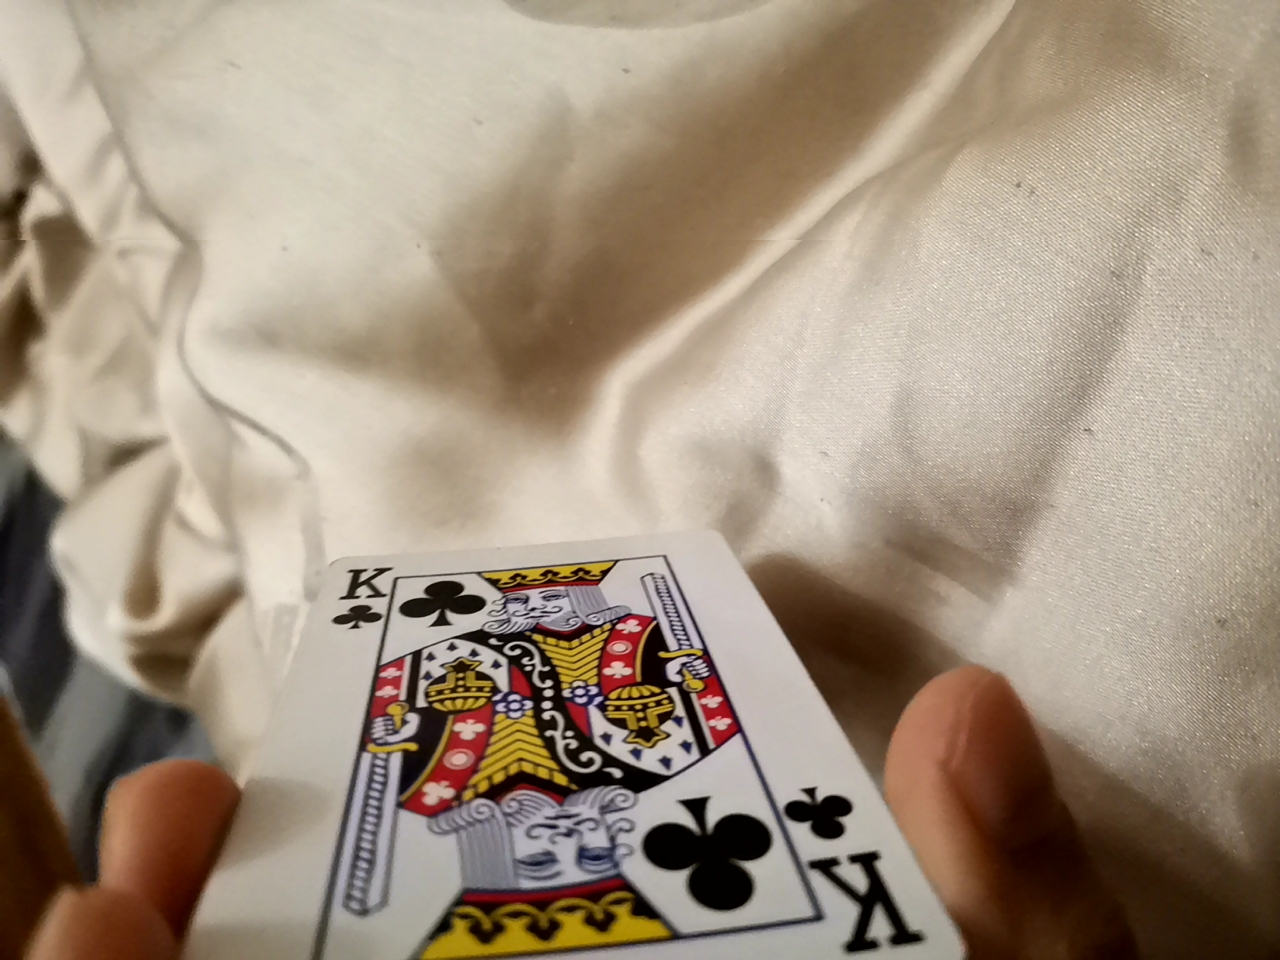mh k: (264, 484, 911, 941)
